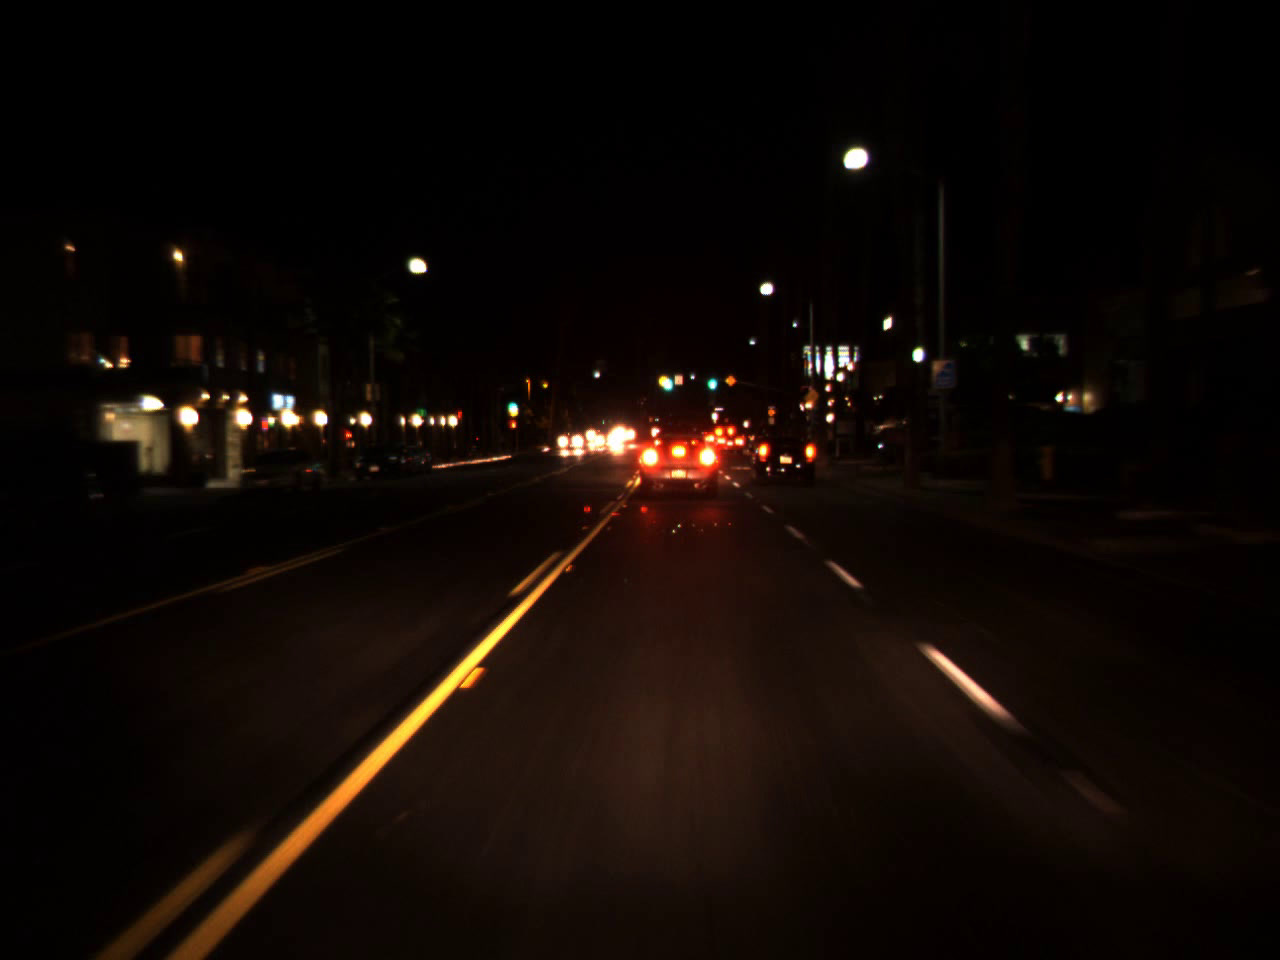go: (703, 369, 718, 390), (662, 370, 672, 391), (506, 397, 518, 409)
